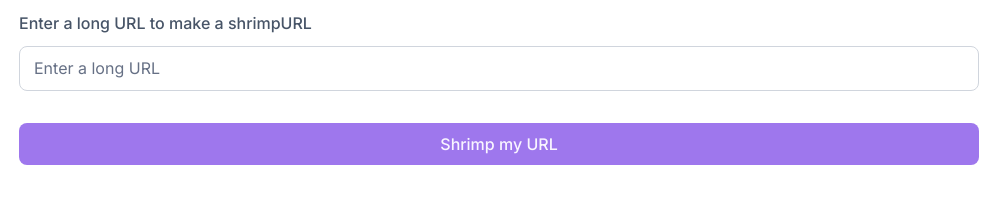
ShortUrlForm › enter invalid url and submit
Type "invalid.url" into the field with placeholder "Enter a long URL" at (499, 69), box [19, 46, 979, 91]
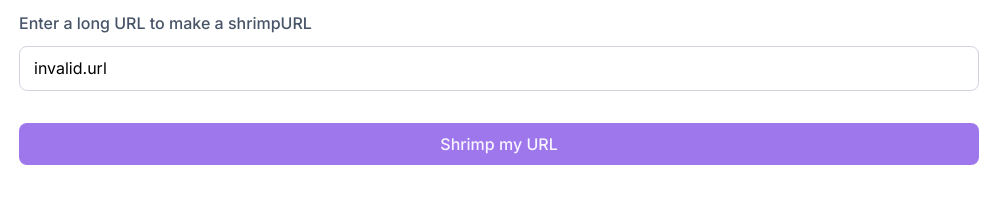
Click the button "Shrimp my URL" at (499, 144), box [19, 123, 979, 165]
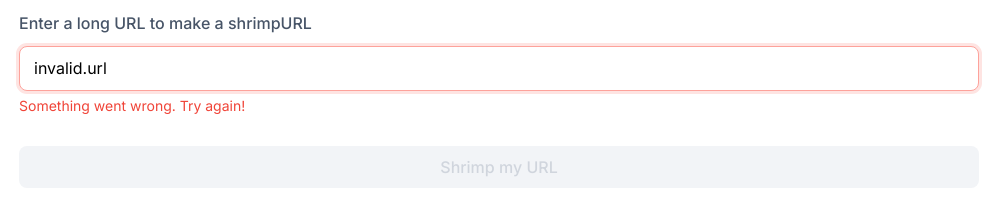
Expected: the text "Something went wrong. Try again!" is shown, [19, 97, 245, 114]
